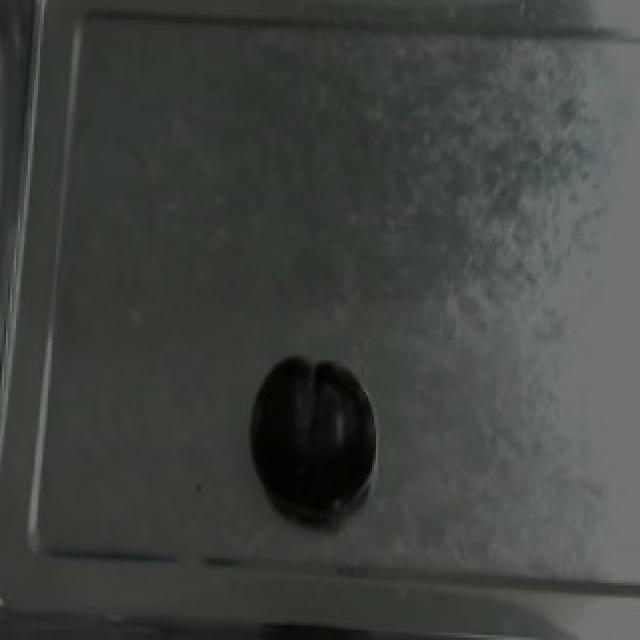Fruit: (242, 354, 376, 514)
